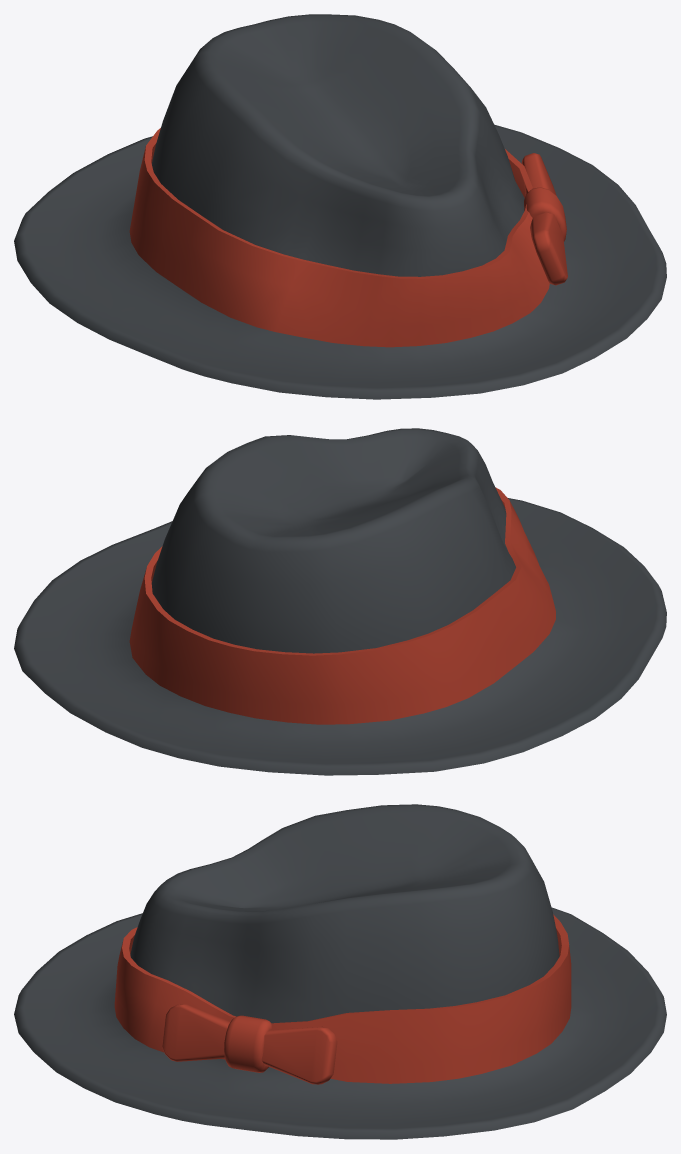
File: CAPPELLO.fbx
3 views of the same model, one above another, from view 1: azimuth 30°, elevation 25°; view 2: azimuth 150°, elevation 25°; view 3: azimuth 270°, elevation 25° (orthographic). The views are drawn at different scales.
Visible parts, largest first — view 1: CAPPELLO; view 2: CAPPELLO; view 3: CAPPELLO.
Boxes of the visible parts, x1=… form: CAPPELLO: x1=14, y1=14, x2=666, y2=399; CAPPELLO: x1=14, y1=428, x2=666, y2=775; CAPPELLO: x1=14, y1=804, x2=666, y2=1139.
Size of the model in its own units: 4.65 by 1.48 by 5.09.
